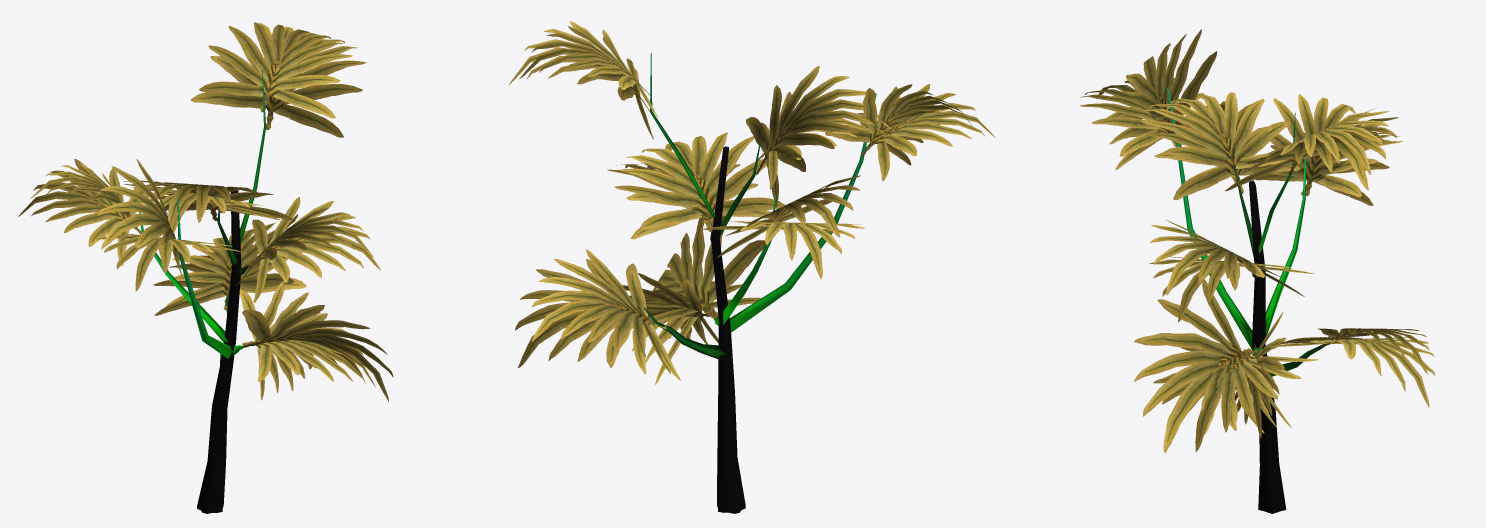
The model's file is SJST01.fbx.
3 renders of one model, left to right at view 1: azimuth 30°, elevation 25°; view 2: azimuth 150°, elevation 25°; view 3: azimuth 270°, elevation 25°, orthographic. The views are drawn at different scales.
Visible parts, largest first — view 1: Tree_2; view 2: Tree_2; view 3: Tree_2.
Part boxes in pixels (<box>): Tree_2: <box>18,22,393,513</box>; Tree_2: <box>508,21,995,513</box>; Tree_2: <box>1080,29,1434,513</box>.
Bounding box in the file's own units: 31.84 × 32.11 × 29.07.
